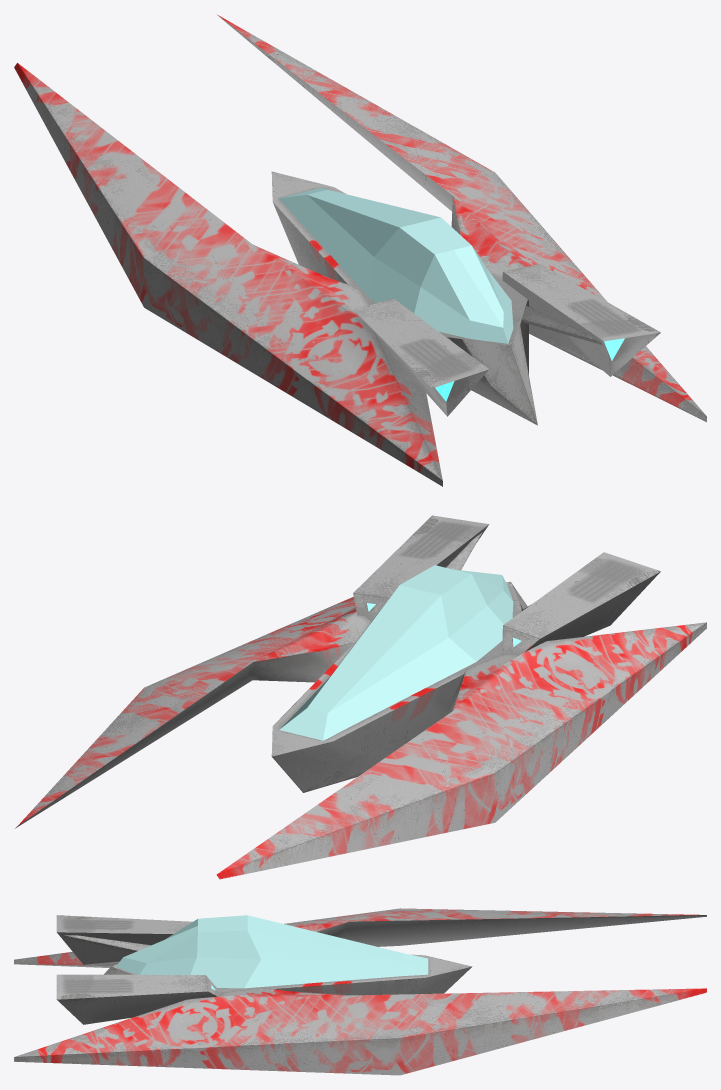
File: testship.glb
3 views of the same model, one above another, from view 1: azimuth 30°, elevation 25°; view 2: azimuth 150°, elevation 25°; view 3: azimuth 270°, elevation 25° (orthographic). The views are drawn at different scales.
Parts seen in each view (by area): view 1: Shipbase; view 2: Shipbase; view 3: Shipbase.
Boxes of the visible parts, box(x1,y1,x2,y2) form: Shipbase: box(14, 14, 706, 486); Shipbase: box(15, 515, 706, 879); Shipbase: box(14, 908, 706, 1075).
Bounding box in the file's own units: 2.24 × 0.7251 × 5.05.
Materials: 2 (2 with a texture image).
